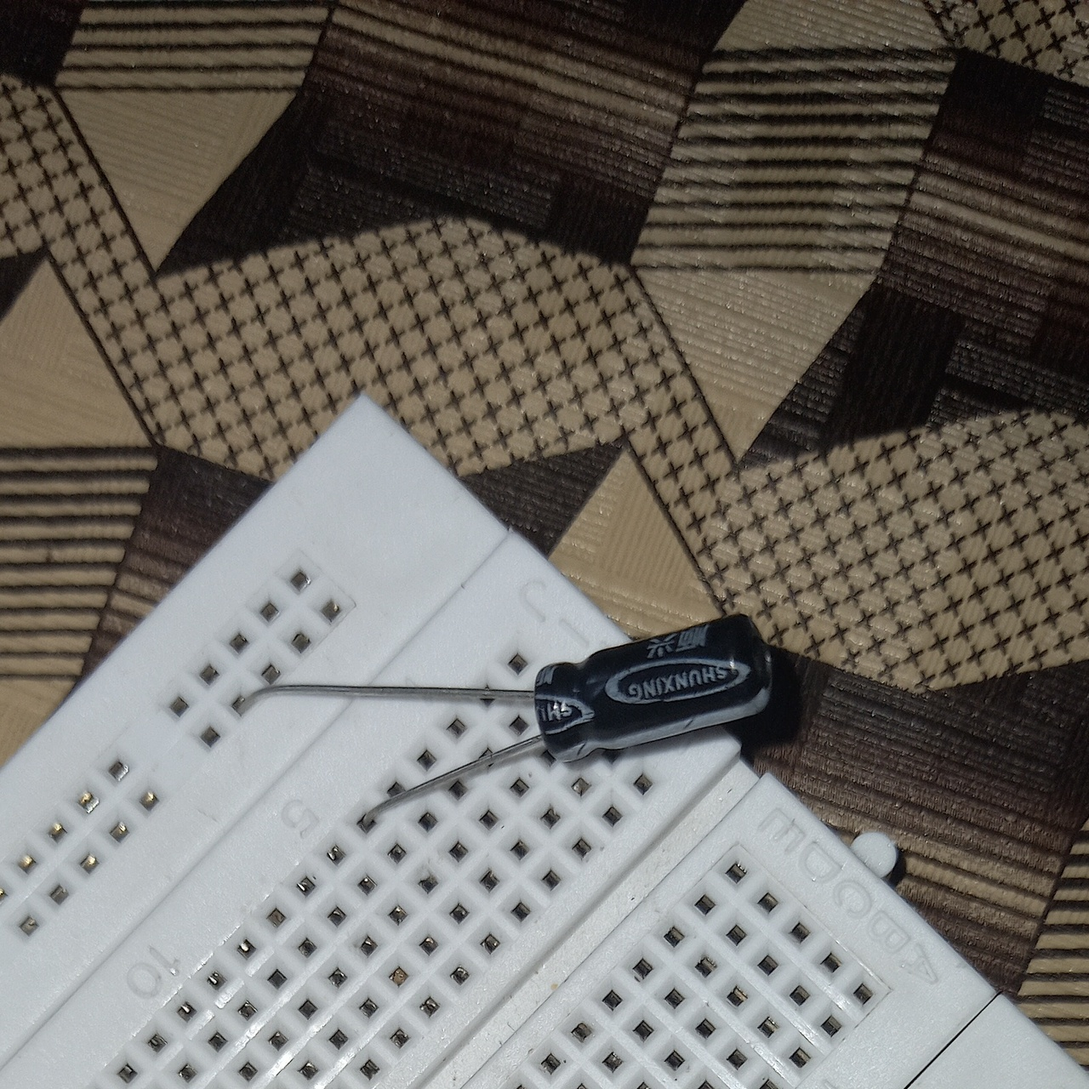capacitor: (536, 621, 787, 762)
